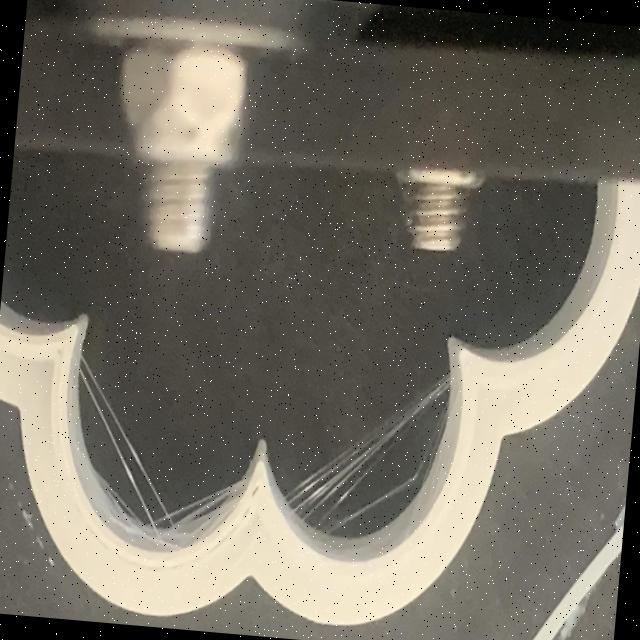stringing: (79, 346, 237, 539), (285, 369, 449, 530), (330, 401, 447, 533)
